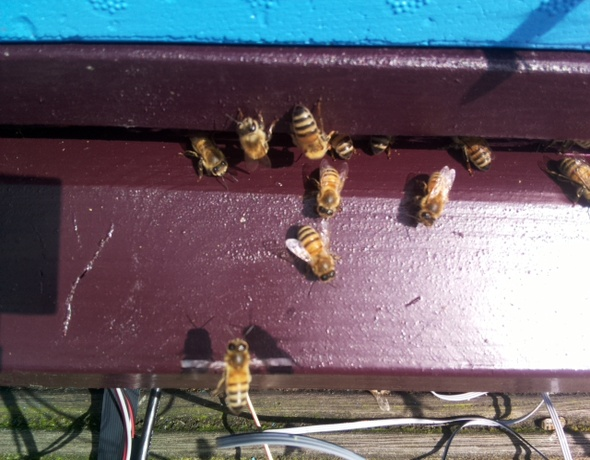no_pollen: (217, 335, 253, 414), (294, 221, 337, 286), (415, 167, 457, 229), (289, 102, 331, 163), (553, 150, 590, 209), (189, 131, 230, 181), (232, 113, 272, 164), (456, 132, 496, 177), (313, 162, 343, 221), (328, 132, 356, 163), (367, 131, 395, 161)
